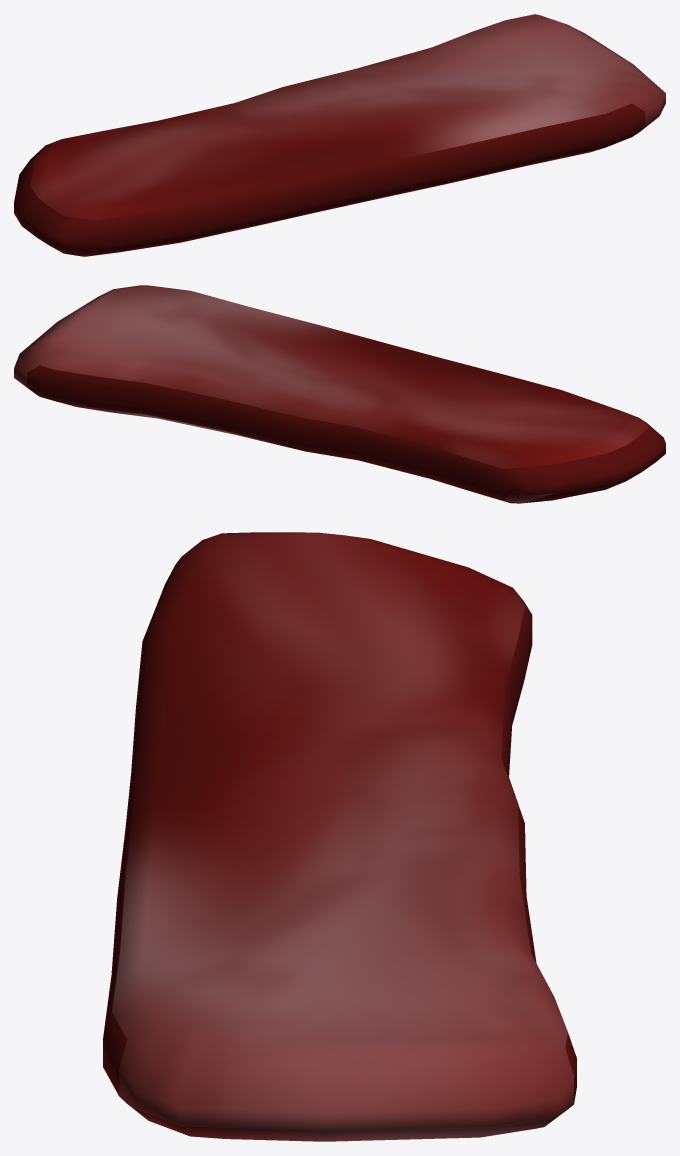
File: MeatTwo.fbx
3 views of the same model, one above another, from view 1: azimuth 30°, elevation 25°; view 2: azimuth 150°, elevation 25°; view 3: azimuth 270°, elevation 25° (orthographic). The views are drawn at different scales.
Parts seen in each view (by area): view 1: Plane.002; view 2: Plane.002; view 3: Plane.002.
Boxes of the visible parts, x1=… form: Plane.002: x1=14, y1=14, x2=665, y2=256; Plane.002: x1=14, y1=285, x2=665, y2=503; Plane.002: x1=103, y1=532, x2=576, y2=1141.
Bounding box in the file's own units: 156 × 11.84 × 55.11.
